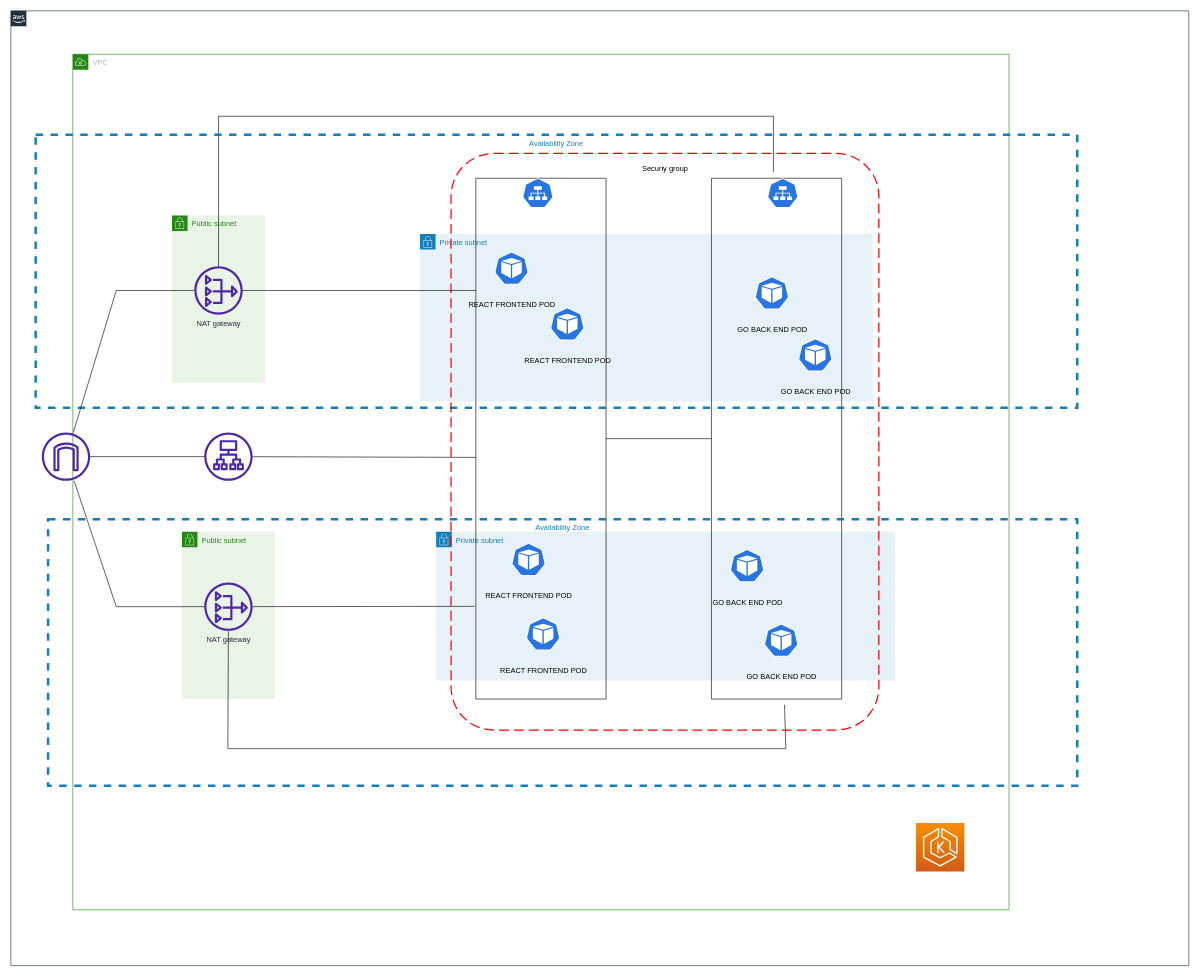
Some shapes in this 1200 by 977 pixel diagram are drawn without their labels. The shapes that lost their labels are listed below. From the top down, each one's centre as x and y in pixels, then its label:
At (537,193): "Fronend service".
At (782,193): "Backend service".
At (66,456): "IGW".
At (228,456): "Application load balancer".
At (939,846): "EKS control plane".
